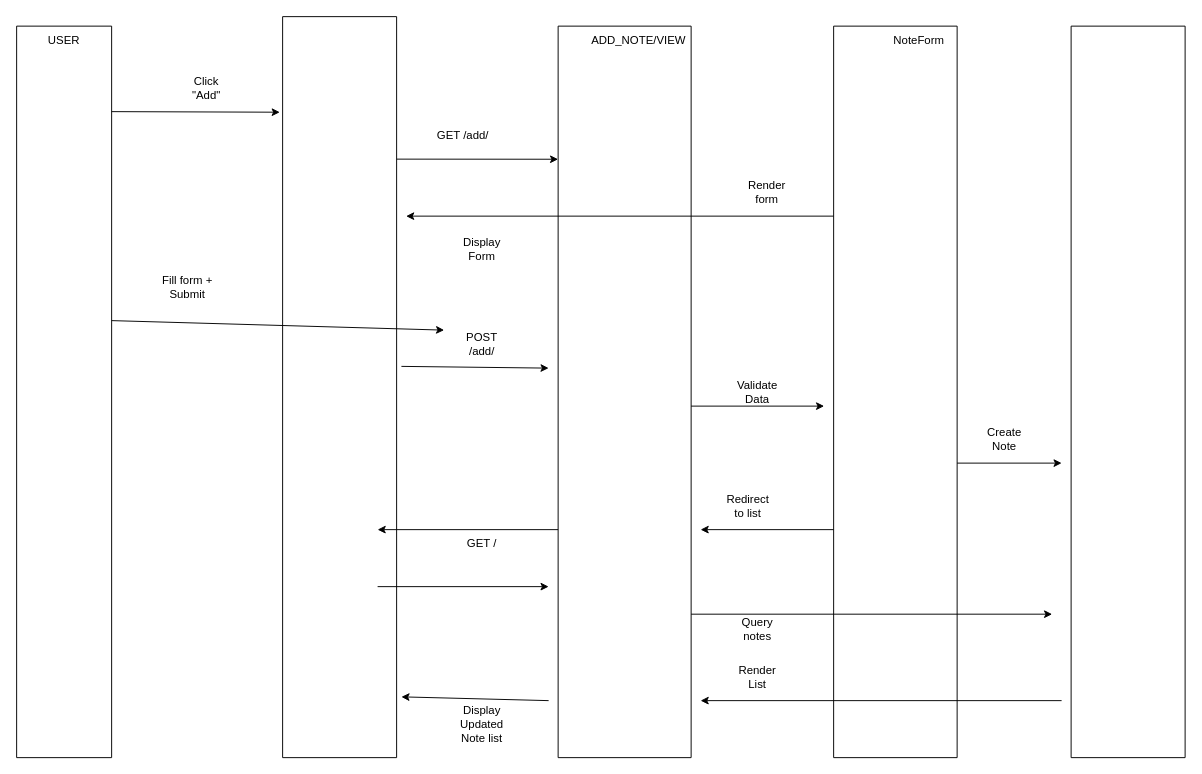
Image size: 1202x774. Some labels were removed from this diagram. The shapes that lost their labels are listed below. From the top down, each one's centre as x and y in pixels, then its label:
point (339, 387): BROWSER
point (1127, 391): NOTE
